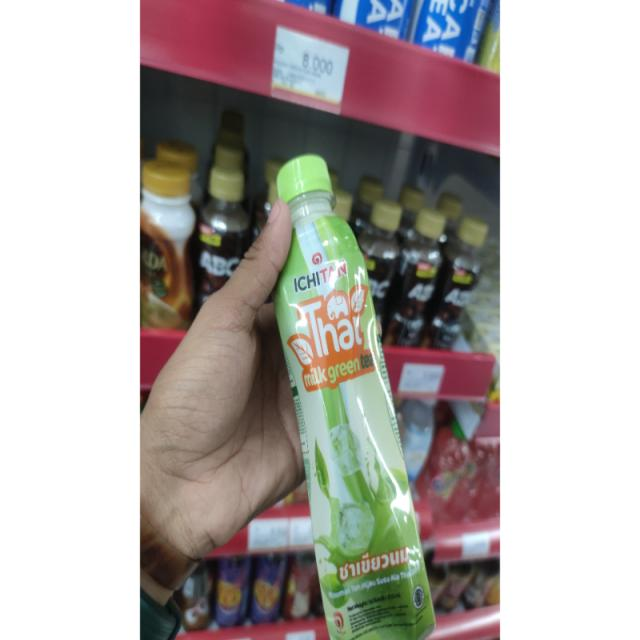botol: (239, 147, 461, 640)
